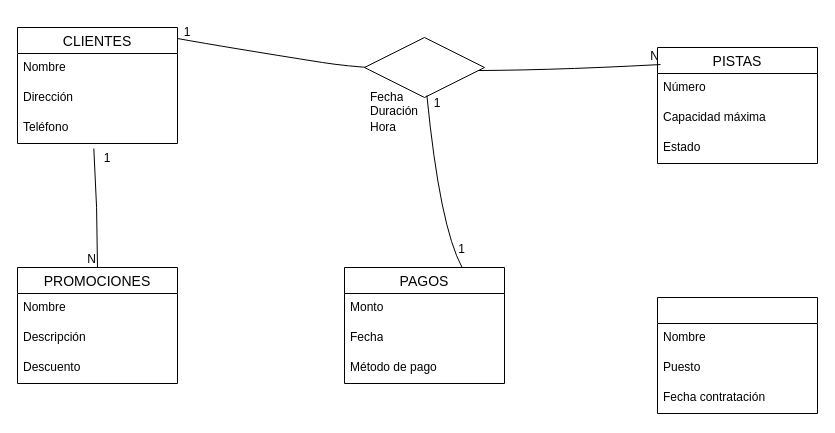
The diagram is 835 pixels wide and 433 high, and some of its shapes have lost their labels. The shapes that lost their labels are listed below. From the top down, each one's box as (x1, y1, x2, y2) in pixels, then its label:
(364, 36, 484, 98): reservan
(656, 296, 818, 414): EMPLEADOS
